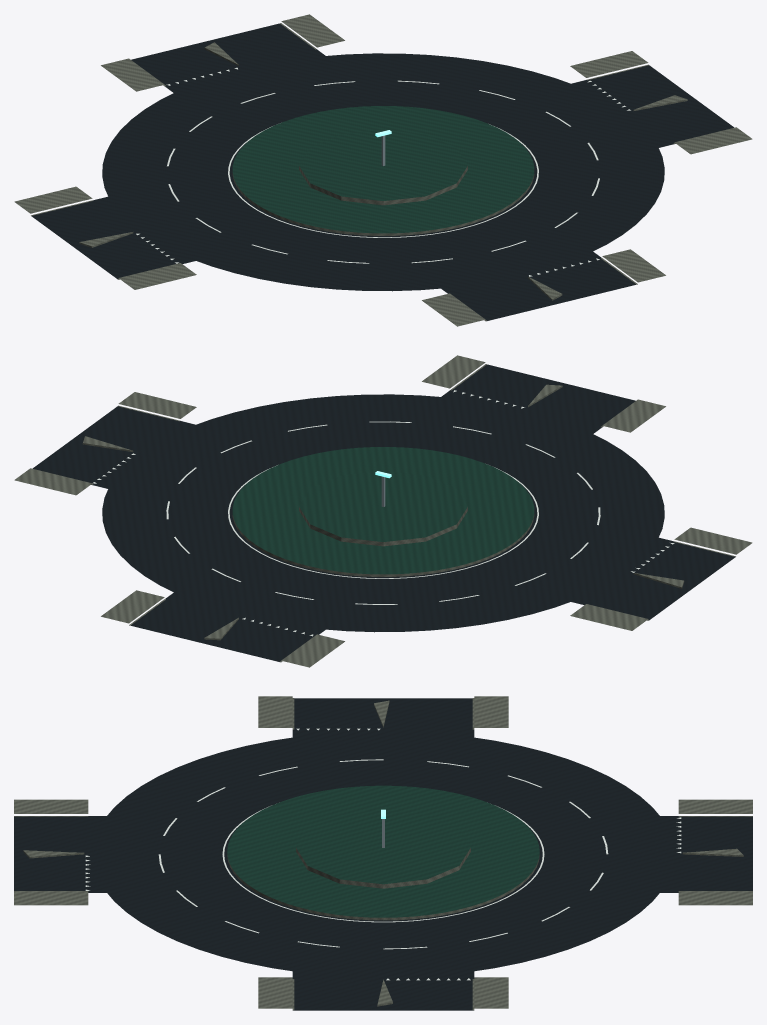
The model's file is junc_roundabout_2lane_LOD0.glb.
The picture shows the model from 3 angles, top to bottom: view 1: azimuth 30°, elevation 25°; view 2: azimuth 150°, elevation 25°; view 3: azimuth 270°, elevation 25°; orthographic projection. The views are drawn at different scales.
Visible parts, largest first — view 1: junc_roundabout_2lane__surface, junc_roundabout_2lane__center_island, junc_roundabout_2lane__entry_ports, junc_roundabout_2lane__island_lighting, junc_roundabout_2lane__entry_sidewalks, junc_roundabout_2lane__splitter_islands; view 2: junc_roundabout_2lane__surface, junc_roundabout_2lane__center_island, junc_roundabout_2lane__entry_ports, junc_roundabout_2lane__island_lighting, junc_roundabout_2lane__entry_sidewalks, junc_roundabout_2lane__splitter_islands; view 3: junc_roundabout_2lane__surface, junc_roundabout_2lane__center_island, junc_roundabout_2lane__entry_ports, junc_roundabout_2lane__island_lighting, junc_roundabout_2lane__entry_sidewalks, junc_roundabout_2lane__splitter_islands.
Boxes of the visible parts, <box> form: junc_roundabout_2lane__surface: <box>102,53,664,291</box>; junc_roundabout_2lane__center_island: <box>167,80,599,263</box>; junc_roundabout_2lane__entry_ports: <box>31,23,733,320</box>; junc_roundabout_2lane__island_lighting: <box>299,129,467,205</box>; junc_roundabout_2lane__entry_sidewalks: <box>14,14,752,326</box>; junc_roundabout_2lane__splitter_islands: <box>79,42,687,300</box>; junc_roundabout_2lane__surface: <box>102,394,664,632</box>; junc_roundabout_2lane__center_island: <box>166,421,600,604</box>; junc_roundabout_2lane__entry_ports: <box>33,364,735,661</box>; junc_roundabout_2lane__island_lighting: <box>299,470,467,546</box>; junc_roundabout_2lane__entry_sidewalks: <box>14,355,752,667</box>; junc_roundabout_2lane__splitter_islands: <box>82,384,684,640</box>; junc_roundabout_2lane__surface: <box>92,731,674,977</box>; junc_roundabout_2lane__center_island: <box>158,759,608,949</box>; junc_roundabout_2lane__entry_ports: <box>14,698,752,1010</box>; junc_roundabout_2lane__island_lighting: <box>296,809,470,888</box>; junc_roundabout_2lane__entry_sidewalks: <box>14,696,752,1010</box>; junc_roundabout_2lane__splitter_islands: <box>23,700,743,1006</box>.
Size of the model in its own units: 52 by 3.2 by 52.
Materials: 7 (4 with a texture image).
